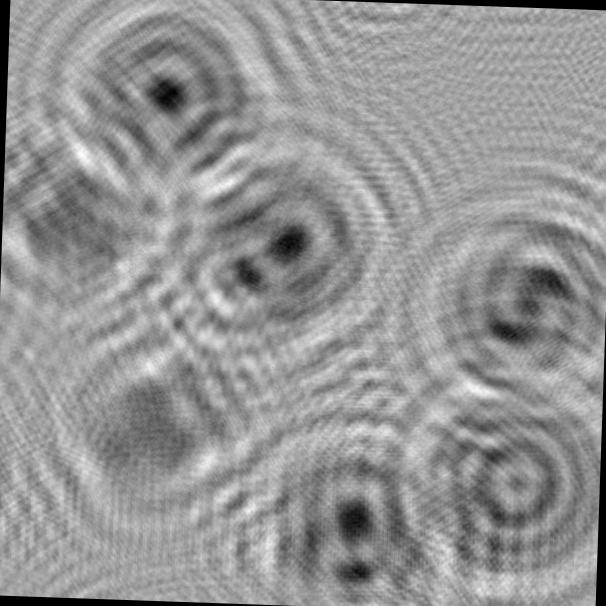P: (29, 0, 316, 236)
Q: (378, 355, 604, 606)
R: (136, 110, 410, 388), (203, 380, 468, 606)
S: (372, 155, 606, 434)
T: (35, 284, 303, 566), (0, 95, 184, 329)
